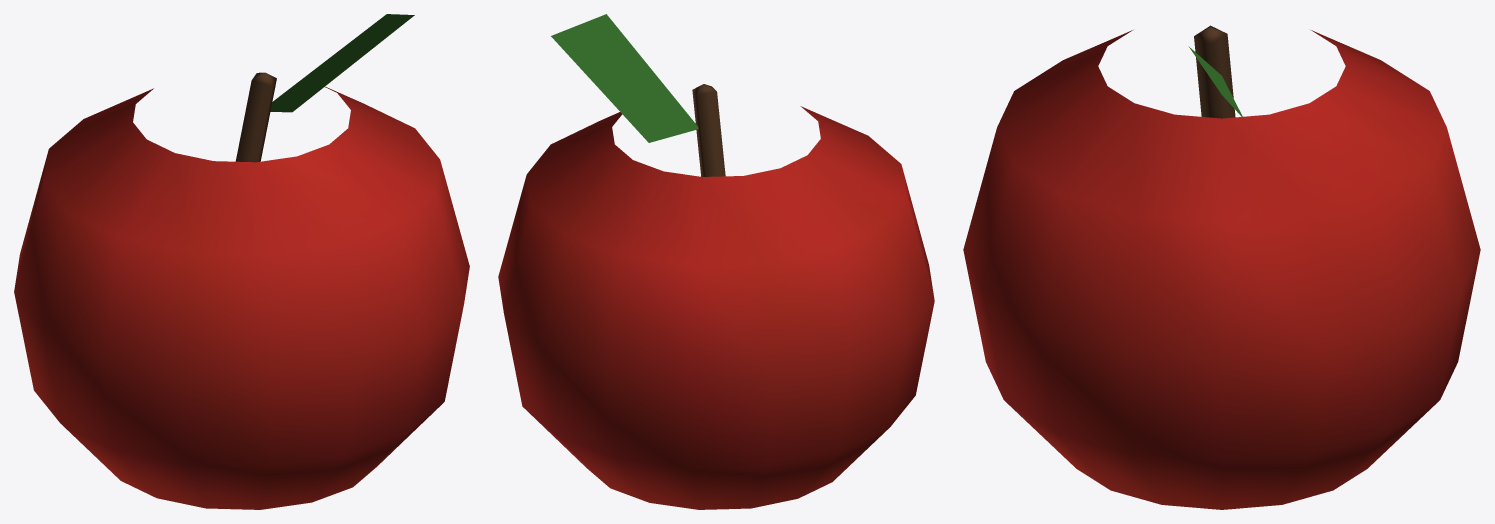
The model's file is apple.glb.
3 views of the same model, side by side, from view 1: azimuth 30°, elevation 25°; view 2: azimuth 150°, elevation 25°; view 3: azimuth 270°, elevation 25° (orthographic). The views are drawn at different scales.
Parts seen in each view (by area): view 1: apple; view 2: apple; view 3: apple.
Part boxes in pixels (x1,y1,x2,y2): apple: (14, 14, 469, 509); apple: (498, 14, 934, 509); apple: (963, 25, 1480, 509).
Size of the model in its own units: 0.092 by 0.096 by 0.092.
